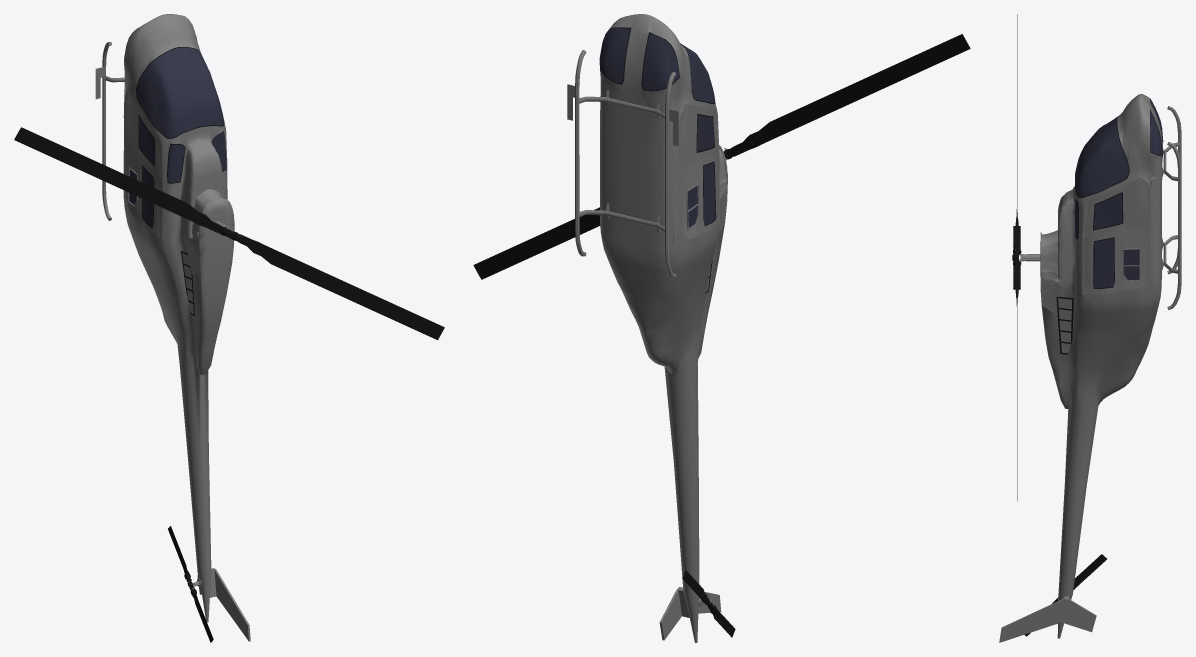
Rendered from heli.obj.
3 renders of one model, left to right at view 1: azimuth 30°, elevation 25°; view 2: azimuth 150°, elevation 25°; view 3: azimuth 270°, elevation 25°, orthographic. The views are drawn at different scales.
Parts seen in each view (by area): view 1: body02, rotor02, glass02, rdoor02, fdoor02, doorglas01, skid02, tail02, wtrim02; view 2: body02, rotor02, glass02, skid02, rdoor02, doorglas01, fdoor02, tail02, wtrim02; view 3: body02, glass02, rdoor02, doorglas01, fdoor02, tail02, skid02, rotor02, shroud02, wtrim02, vents02, rrotor02.
Part boxes in pixels (x1,y1,x2,y2): body02: (123, 14, 234, 622); rotor02: (14, 127, 444, 340); glass02: (124, 47, 226, 182); rdoor02: (124, 142, 161, 237); fdoor02: (124, 92, 161, 177); doorglas01: (129, 116, 154, 227); skid02: (95, 42, 124, 220); tail02: (197, 568, 250, 641); wtrim02: (124, 37, 226, 227); body02: (600, 14, 727, 642); rotor02: (473, 34, 970, 279); glass02: (599, 27, 715, 103); skid02: (567, 50, 678, 278); rdoor02: (679, 154, 719, 238); doorglas01: (687, 114, 715, 227); fdoor02: (679, 104, 719, 167); tail02: (659, 587, 721, 640); wtrim02: (600, 27, 716, 225); body02: (1040, 94, 1163, 638); glass02: (1075, 99, 1163, 237); rdoor02: (1082, 227, 1150, 294); doorglas01: (1093, 193, 1139, 288); fdoor02: (1083, 178, 1151, 236); tail02: (999, 596, 1096, 642); skid02: (1161, 106, 1181, 309); rotor02: (1012, 14, 1021, 500); shroud02: (1041, 230, 1057, 275); wtrim02: (1075, 98, 1163, 288); vents02: (1058, 298, 1072, 353); rrotor02: (1024, 554, 1106, 636).
Bounding box in the file's own units: 15.53 × 20 × 6.05.
